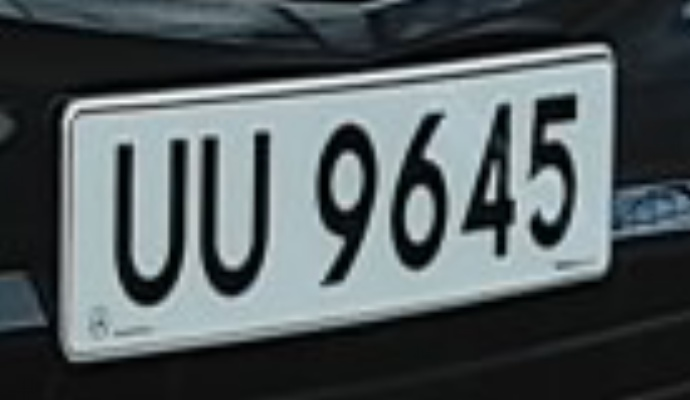4: (451, 65, 532, 290)
5: (516, 60, 596, 281)
6: (379, 75, 463, 300)
9: (293, 89, 391, 310)
U: (186, 106, 293, 320), (95, 111, 199, 323)
